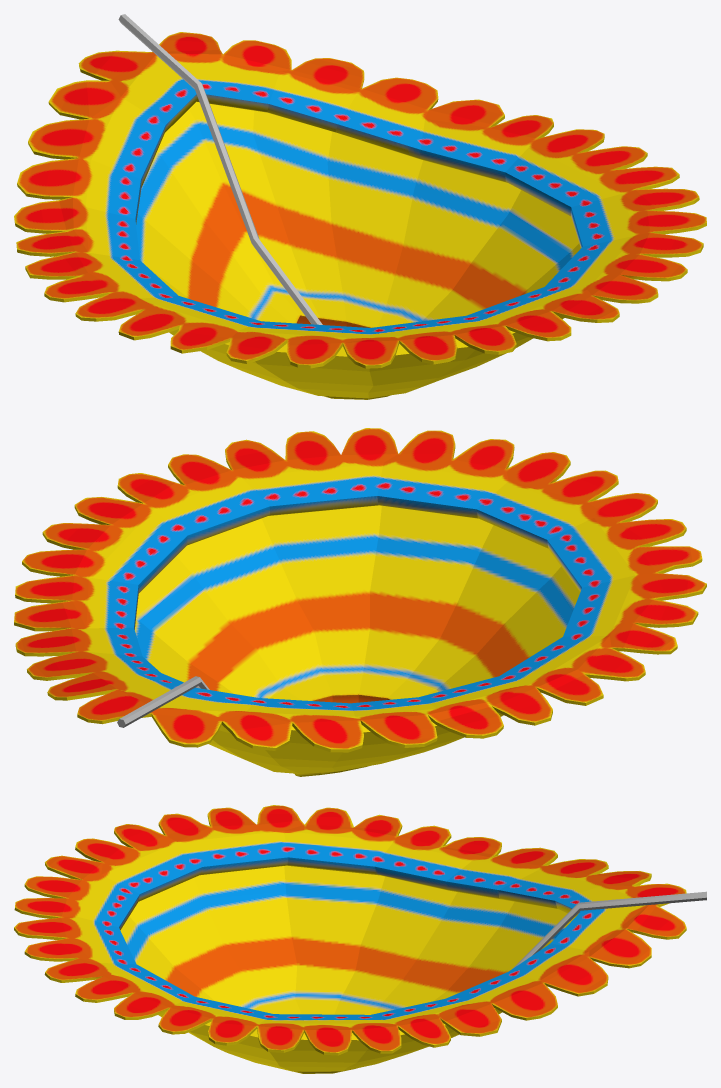
File: diya.gltf
3 views of the same model, one above another, from view 1: azimuth 30°, elevation 25°; view 2: azimuth 150°, elevation 25°; view 3: azimuth 270°, elevation 25° (orthographic). The views are drawn at different scales.
Parts seen in each view (by area): view 1: polySurface1_0, pCylinder1_1; view 2: polySurface1_0, pCylinder1_1; view 3: polySurface1_0, pCylinder1_1.
Boxes of the visible parts, left/top/right/bottom form: polySurface1_0: left=14, top=32, right=706, bottom=399; pCylinder1_1: left=118, top=14, right=322, bottom=324; polySurface1_0: left=14, top=428, right=706, bottom=776; pCylinder1_1: left=117, top=676, right=209, bottom=727; polySurface1_0: left=14, top=805, right=686, bottom=1073; pCylinder1_1: left=512, top=891, right=706, bottom=968.
Bounding box in the file's own units: 2.74 × 0.8273 × 3.27.
